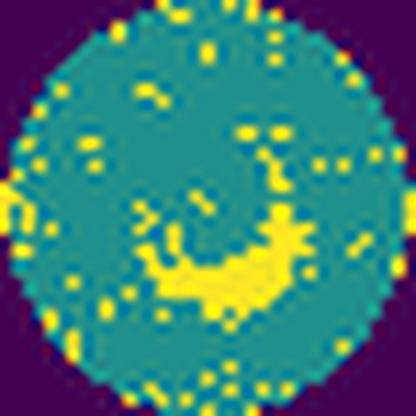Donut: (124, 113, 327, 324)
